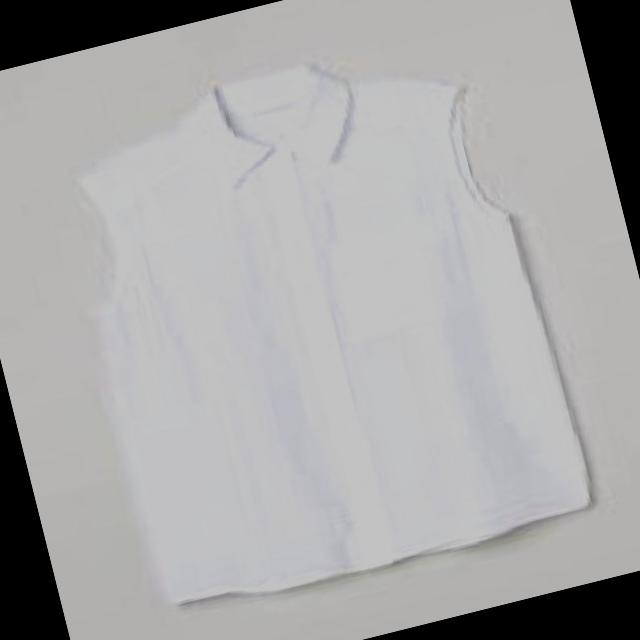no_vest: (51, 21, 598, 620)
